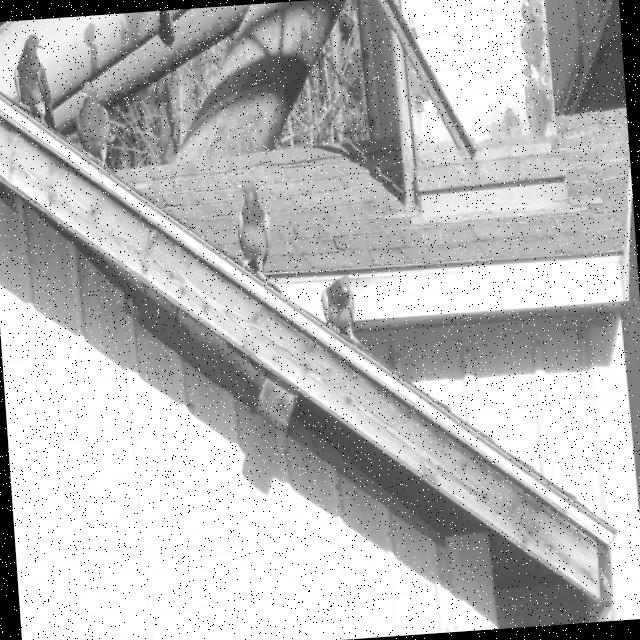bird: (232, 174, 276, 288), (9, 32, 56, 133), (72, 78, 116, 172), (318, 274, 361, 349)
